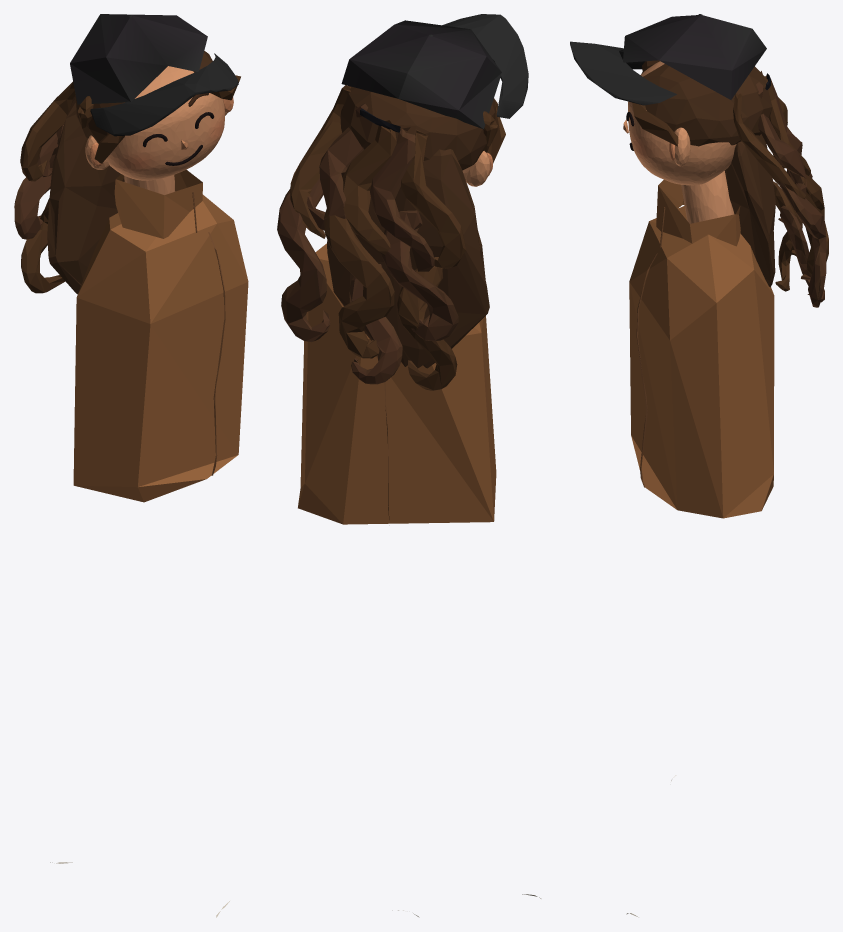
File: bianca.v1.glb
The picture shows the model from 3 angles, left to right: view 1: azimuth 30°, elevation 25°; view 2: azimuth 150°, elevation 25°; view 3: azimuth 270°, elevation 25°; orthographic projection. The views are drawn at different scales.
Visible parts, largest first — view 1: 01 | Rounded face and full cranium; view 2: 01 | Rounded face and full cranium; view 3: 01 | Rounded face and full cranium.
Boxes of the visible parts, left/top/right/bottom form: 01 | Rounded face and full cranium: left=14, top=14, right=248, bottom=917; 01 | Rounded face and full cranium: left=277, top=14, right=541, bottom=917; 01 | Rounded face and full cranium: left=570, top=14, right=828, bottom=917.
Size of the model in its own units: 0.4089 by 1.66 by 0.4449.
